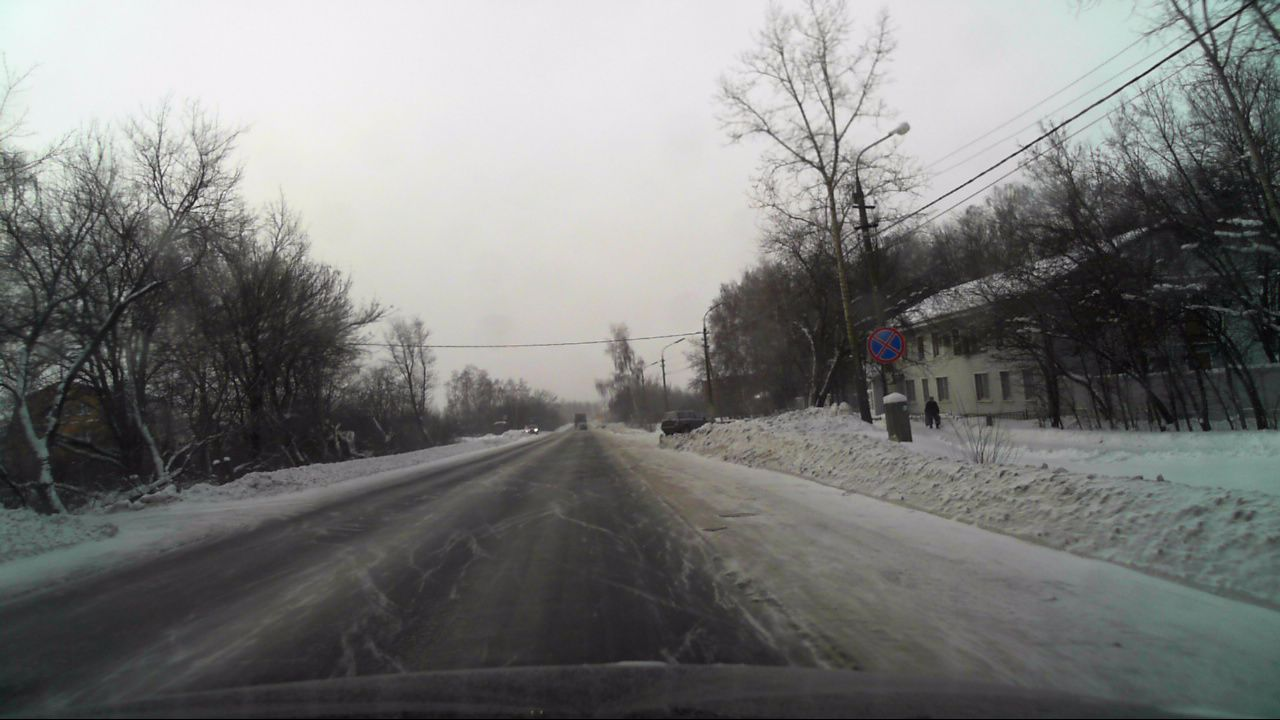No Parking: (866, 326, 905, 365)
